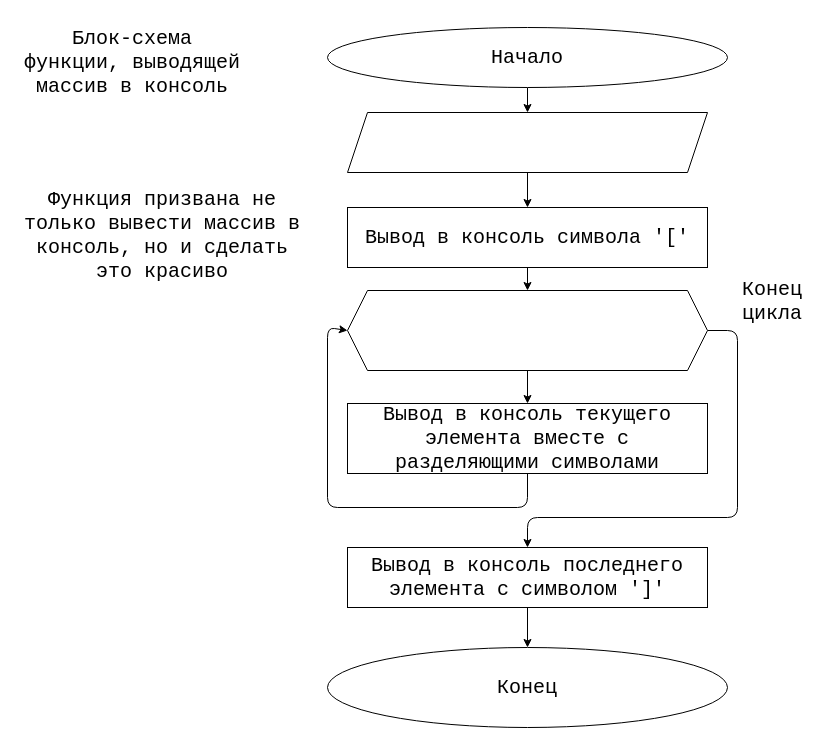
Image size: 824x745. Some labels were removed from this diagram. Each missing label, with the centre of its shape:
Получение массива: (x=527, y=142)
Цикл for для всех элементов, кроме последнего: (x=527, y=330)
